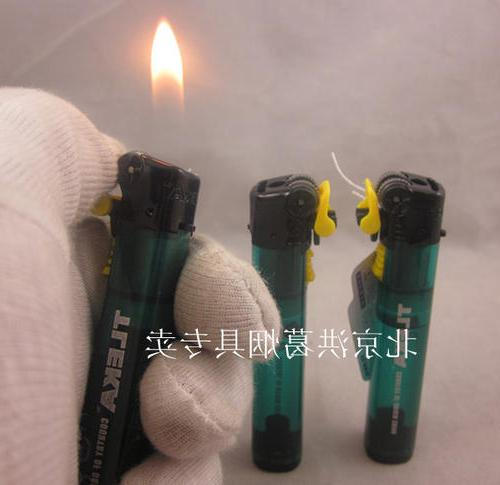fire: (124, 11, 226, 180)
